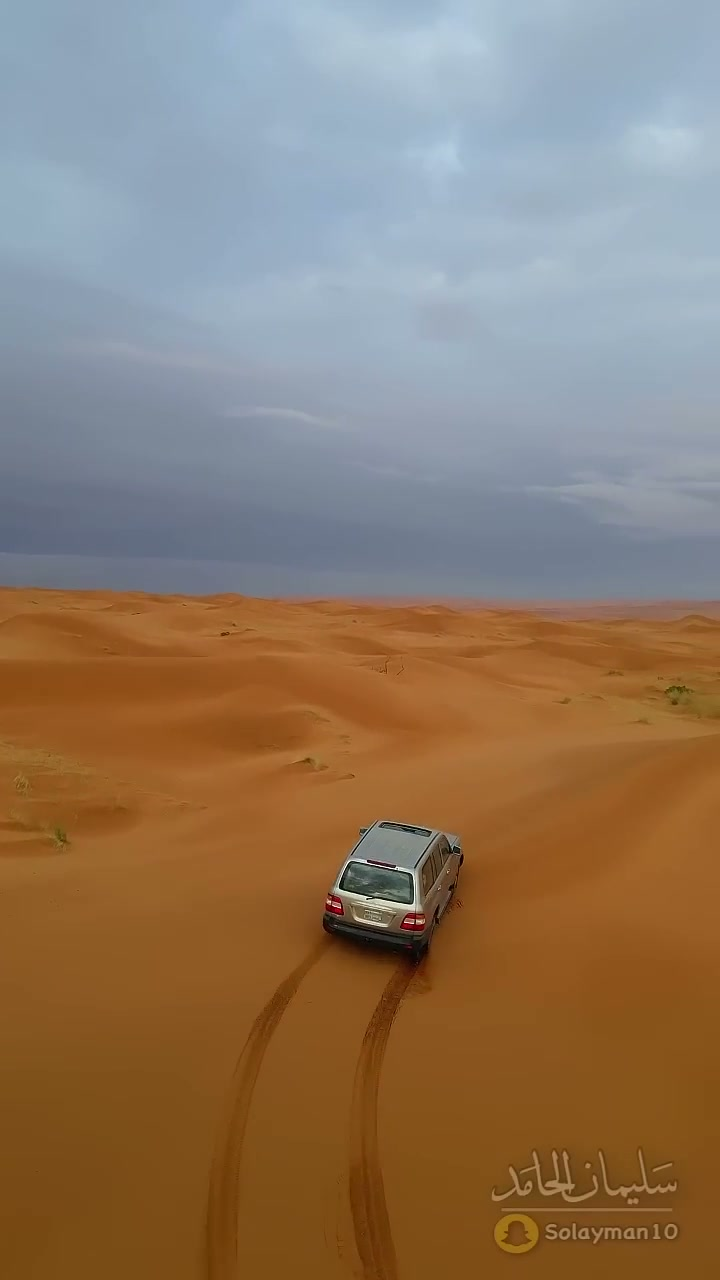vehicle_track: (205, 937, 331, 1279), (349, 962, 417, 1279)
